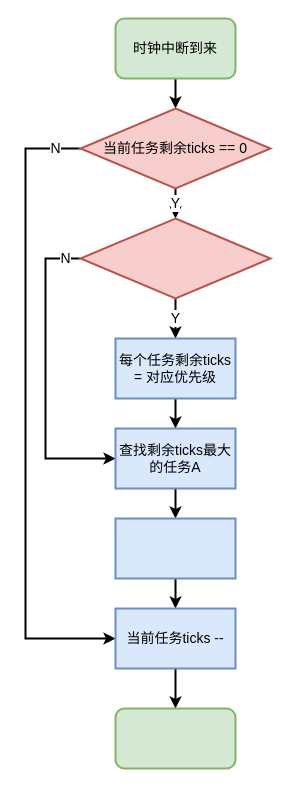
This 288x786 diagram has some shape labels left out. The centre of each missing label's shape, as x and y in pixels:
"当前任务=A 运行任务A" goes at pixel 175 548.
"所有任务剩余ticks == 0" goes at pixel 175 258.
"返回" goes at pixel 175 738.
